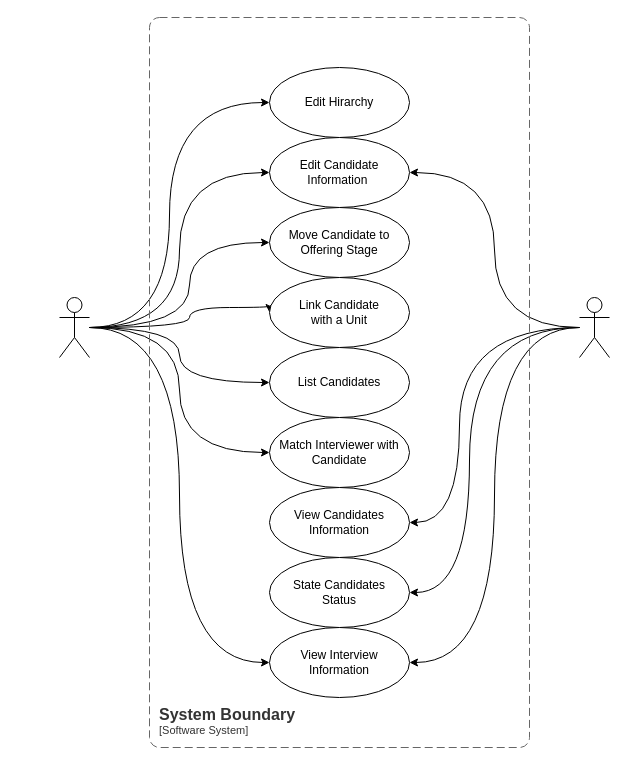
Some shapes in this 641 by 765 pixel diagram are drawn without their labels. Each missing label, with the box of its shape:
interveiwer: (578, 296, 610, 358)
talent acquisition(TA): (58, 296, 90, 358)
